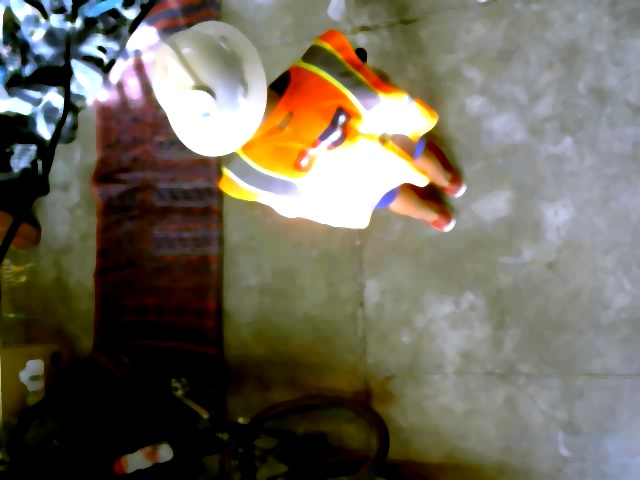two: (172, 89, 217, 130)
